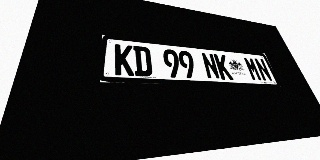9: (177, 50, 198, 78), (162, 49, 182, 78)
D: (133, 46, 153, 77)
K: (115, 44, 134, 76), (213, 54, 234, 80)
M: (243, 57, 263, 81)
N: (201, 52, 221, 79), (253, 58, 273, 82)
